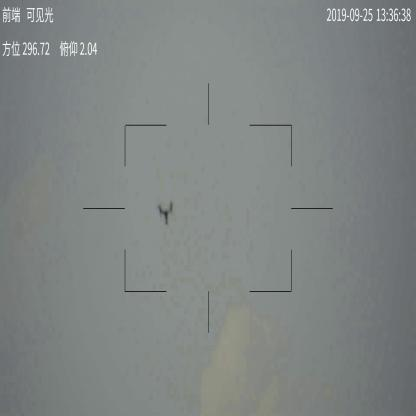uav: (156, 198, 175, 226)
